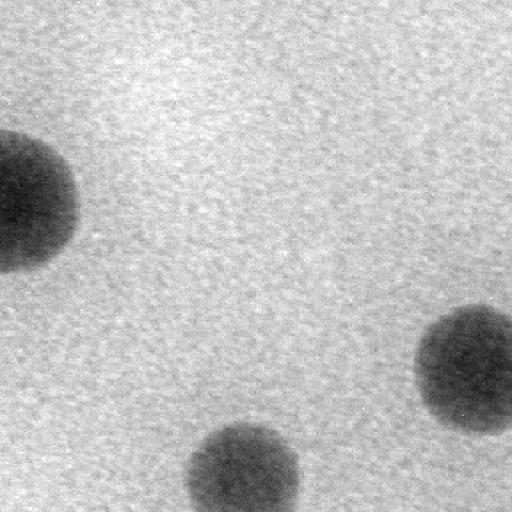Nanoparticles: (415, 304, 510, 445), (2, 129, 81, 285), (182, 420, 304, 512)
